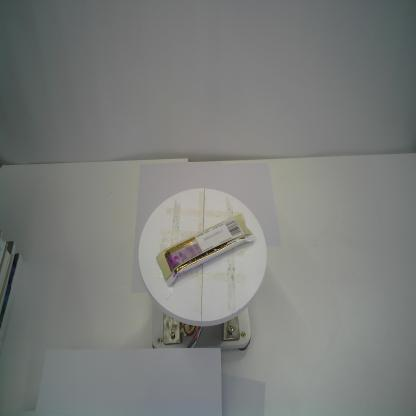Chocolate: (155, 211, 257, 287)
